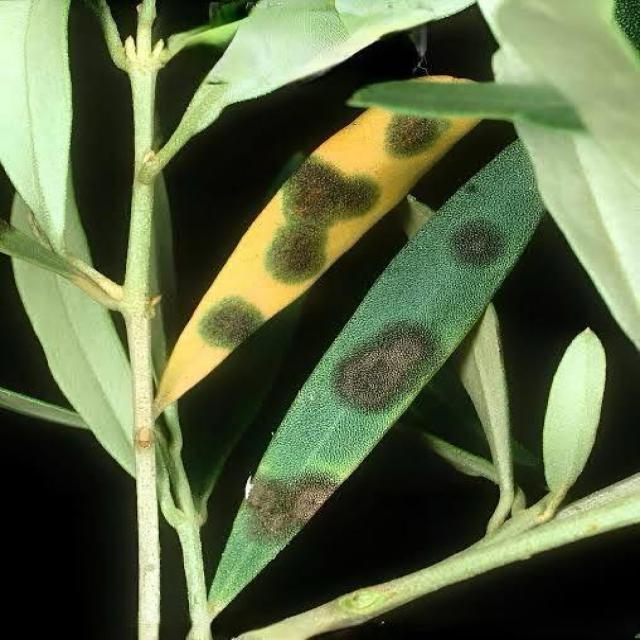Peacock Eye: (210, 141, 542, 609), (156, 109, 477, 408)
